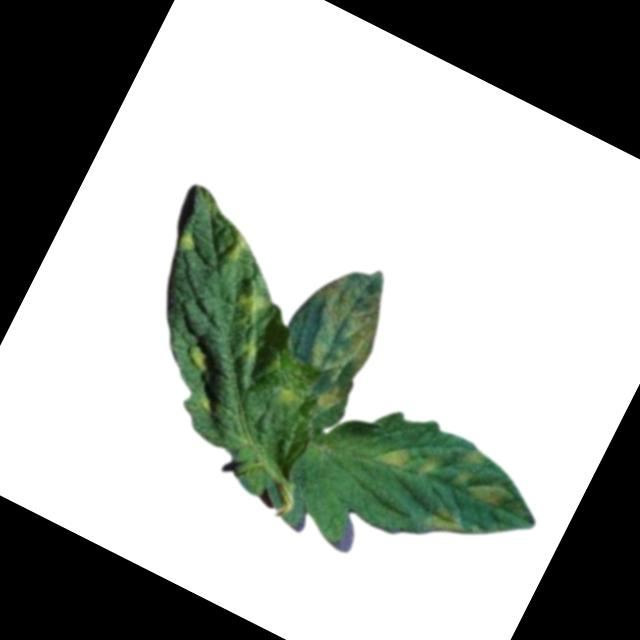Leaf_Mold: (266, 252, 409, 424), (447, 444, 524, 512), (373, 429, 445, 489), (225, 282, 283, 337), (420, 502, 469, 546), (230, 328, 274, 372), (216, 225, 257, 270), (268, 376, 310, 418), (172, 225, 208, 258), (186, 343, 219, 373)
